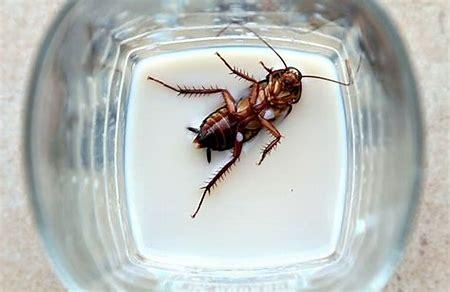cockroach: (133, 23, 372, 222)
